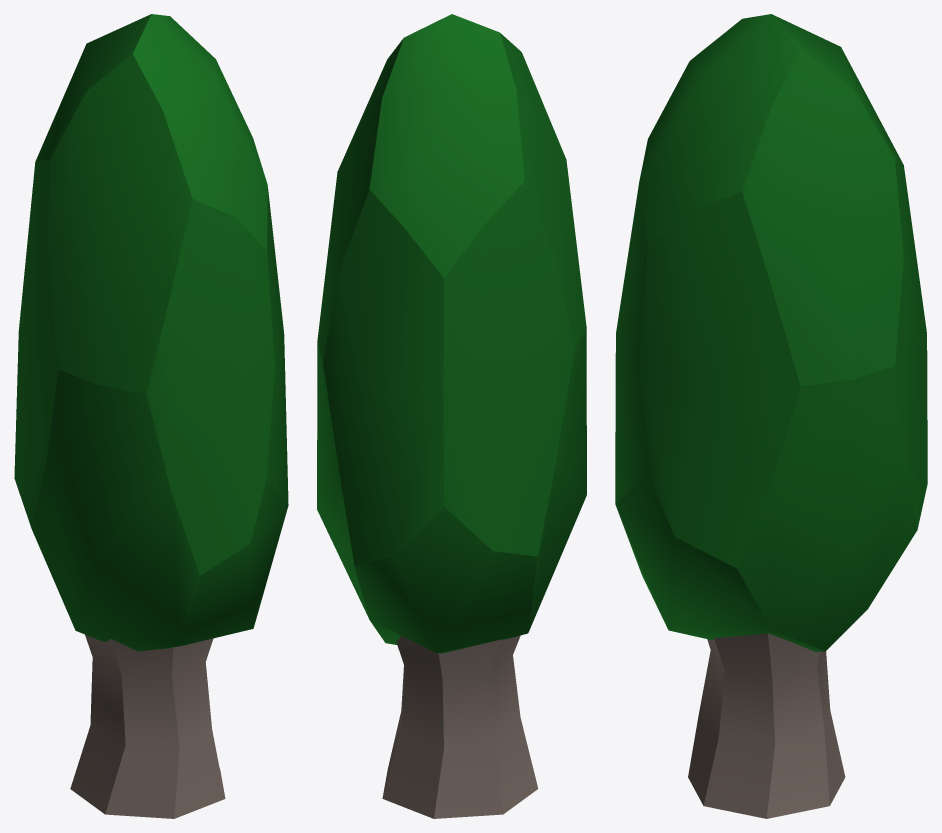
File: tree4.fbx
The picture shows the model from 3 angles, left to right: view 1: azimuth 30°, elevation 25°; view 2: azimuth 150°, elevation 25°; view 3: azimuth 270°, elevation 25°; orthographic projection.
Parts seen in each view (by area): view 1: group2; view 2: group2; view 3: group2.
Part boxes in pixels (box(x1,y1,x2,y2)): group2: box(14, 14, 288, 818); group2: box(317, 14, 586, 818); group2: box(615, 14, 927, 818).
Bounding box in the file's own units: 39.52 × 135 × 49.51.
